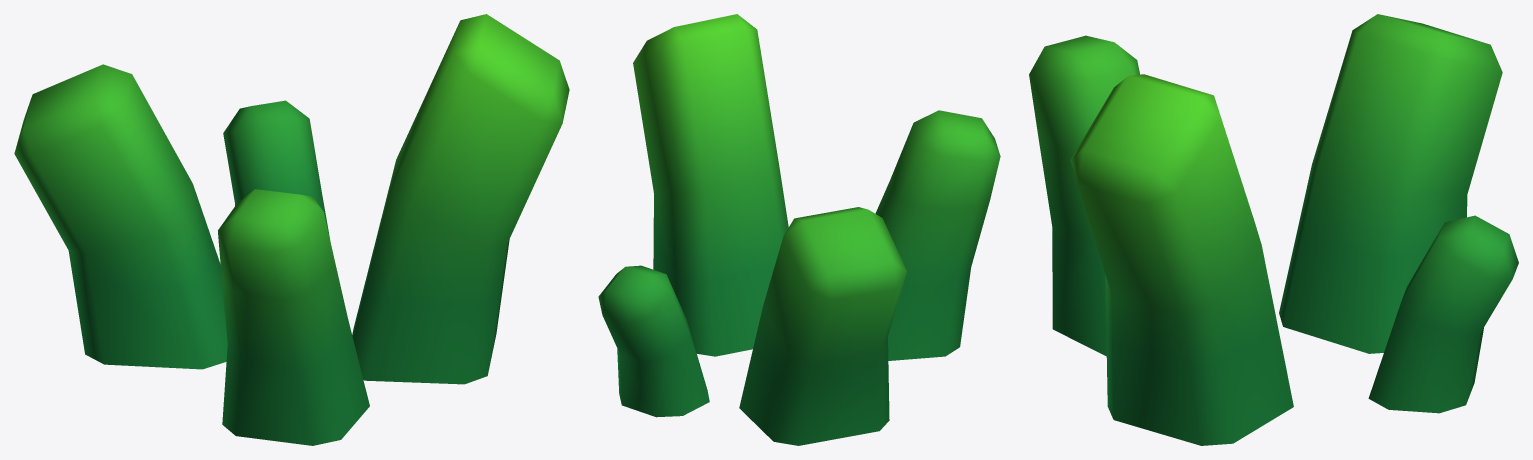
The model's file is Grass_3_1.obj.
3 views of the same model, side by side, from view 1: azimuth 30°, elevation 25°; view 2: azimuth 150°, elevation 25°; view 3: azimuth 270°, elevation 25° (orthographic). The views are drawn at different scales.
Parts seen in each view (by area): view 1: Grass_3_1; view 2: Grass_3_1; view 3: Grass_3_1.
Part boxes in pixels (x1=…): Grass_3_1: x1=14, y1=14, x2=569, y2=445; Grass_3_1: x1=598, y1=14, x2=1000, y2=445; Grass_3_1: x1=1029, y1=14, x2=1518, y2=445.
Bounding box in the file's own units: 0.2396 × 0.1757 × 0.2272.
